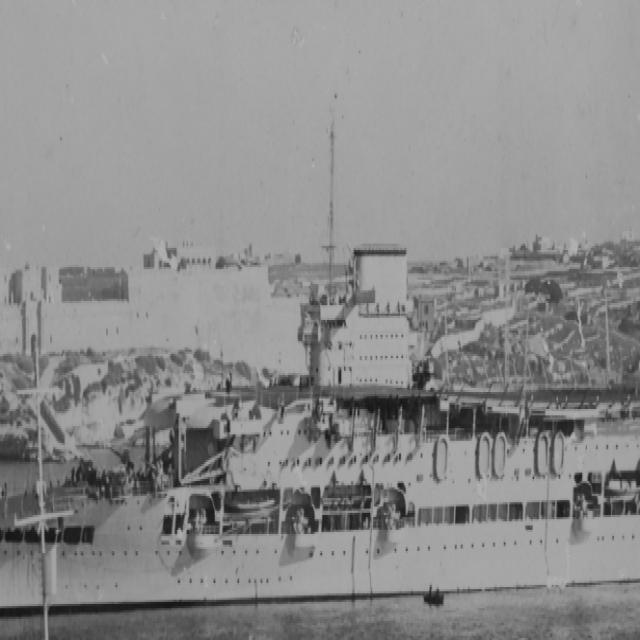Portanaves: (1, 209, 640, 628)
